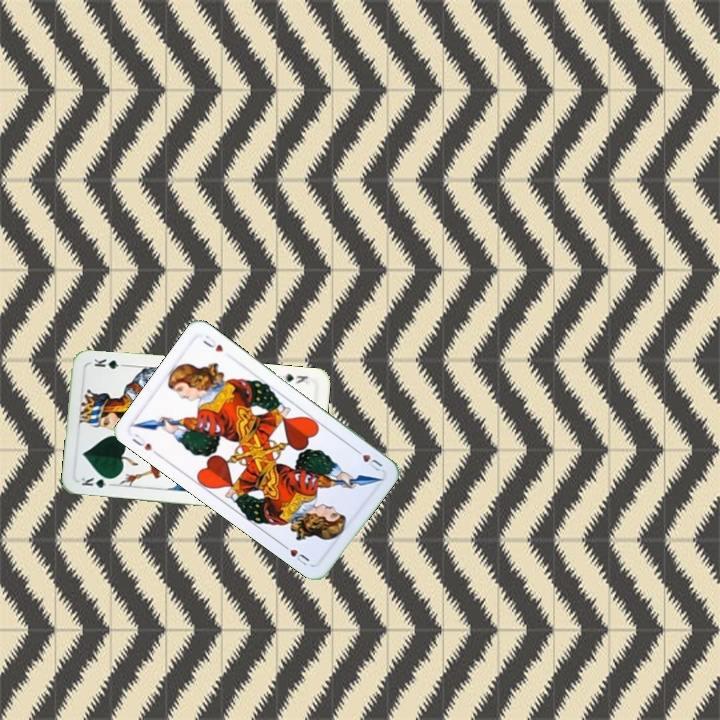GK: (77, 473, 117, 491), (278, 370, 311, 387)
HU: (350, 444, 385, 475), (128, 429, 155, 454)
